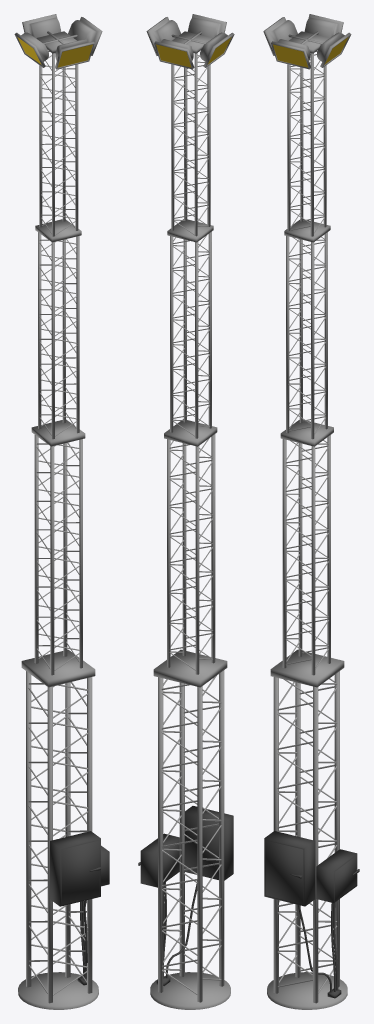
The model's file is SM_headlighttower.FBX.
The picture shows the model from 3 angles, left to right: view 1: azimuth 30°, elevation 25°; view 2: azimuth 150°, elevation 25°; view 3: azimuth 330°, elevation 25°; orthographic projection.
Visible parts, largest first — view 1: Line012; view 2: Line012; view 3: Line012.
Boxes of the visible parts, x1,y1,x2,y2 form: Line012: (14, 14, 109, 1009); Line012: (138, 14, 234, 1009); Line012: (263, 14, 359, 1009).
Bounding box in the file's own units: 784 × 9311 × 783.
